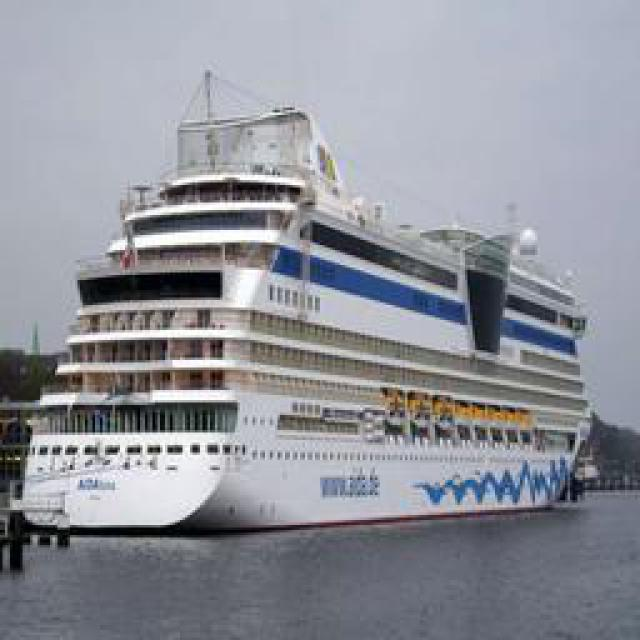Ship: (13, 79, 631, 544)
